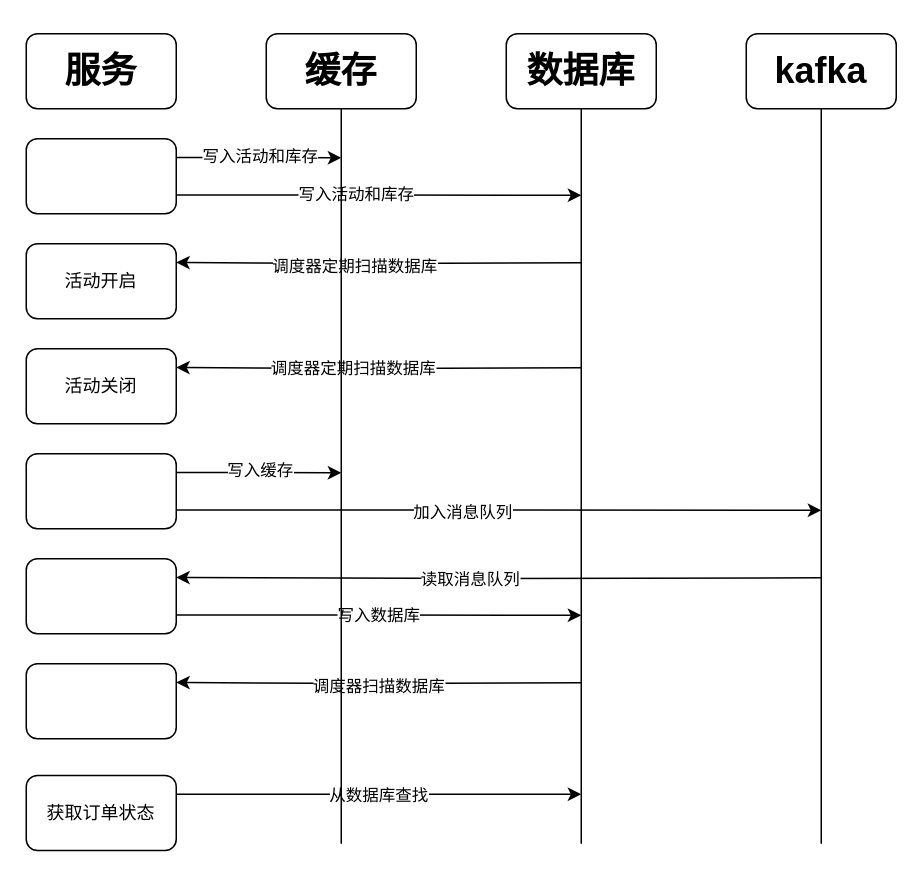
The diagram is 923 pixels wide and 878 high, and some of its shapes have lost their labels. Here are the shapes that lost their labels. From the top down, the centre of each, then its label:
point 100,175: 创建活动
point 100,490: 参加秒杀
point 100,595: 订单写入数据库
point 100,700: 订单过期
